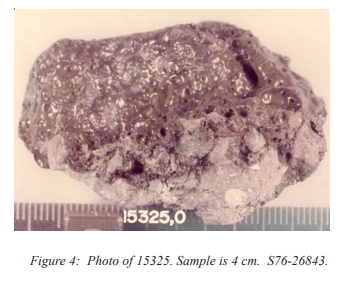Breccia: (21, 27, 322, 200), (116, 72, 292, 181)
